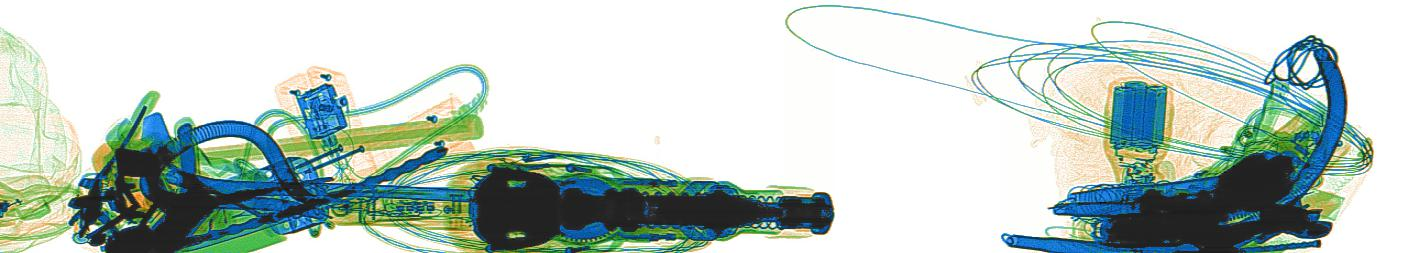battery: (1107, 78, 1167, 153)
